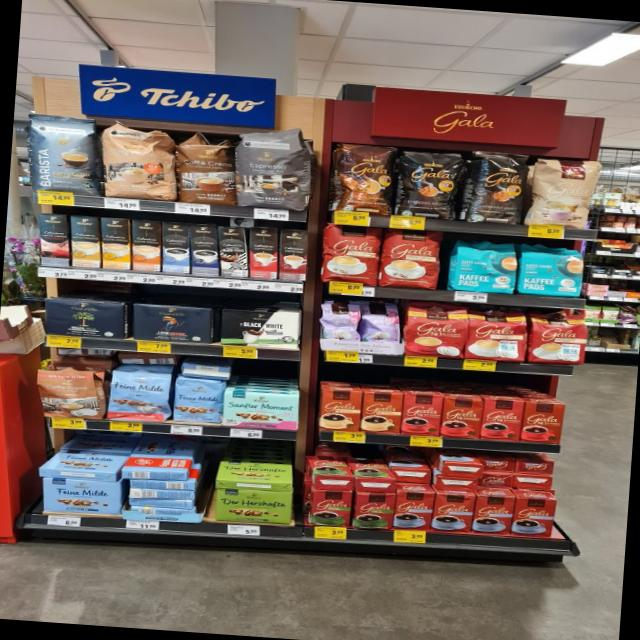BM Gemahlen: (40, 297, 130, 340)
BW Gemahlen: (218, 307, 304, 349)
Barista CC: (20, 110, 106, 196)
CC Mild: (98, 121, 178, 202)
CC Vollmundig: (31, 366, 108, 421)
CC Vollmundig 36 Pads: (170, 130, 239, 205)
Espresso M Art: (232, 128, 314, 212)
FM 36 Pads: (106, 368, 172, 422)
FM Bohne: (170, 374, 224, 424)
FM Gemahlen: (38, 477, 124, 516)
Herzhatfe Mundig: (213, 486, 296, 526)
LG Gemahlen: (128, 302, 216, 344)
SM Gemahlen: (220, 389, 302, 430)
Simo CC Colombia: (38, 213, 69, 265)
Simo CCMild bigpack: (101, 216, 130, 269)
Simo CCVollmundig bigpack: (133, 219, 160, 271)
Simo Decaff: (70, 215, 100, 268)
Simo Es Brazil: (249, 226, 277, 279)
Simo Es Caramel: (278, 229, 308, 281)
Simo Es Elegant: (217, 225, 247, 277)
Simo Es Kraft: (189, 223, 219, 275)
Simo Es Vanilla: (162, 221, 189, 273)
